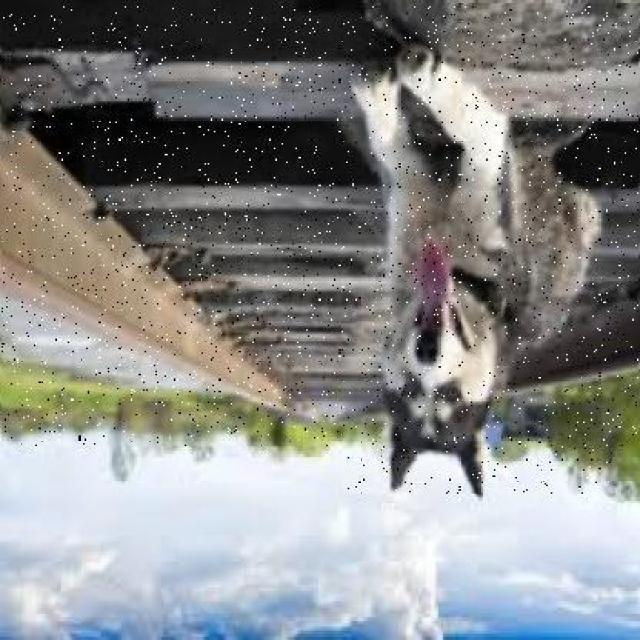rail: (4, 7, 639, 446)
